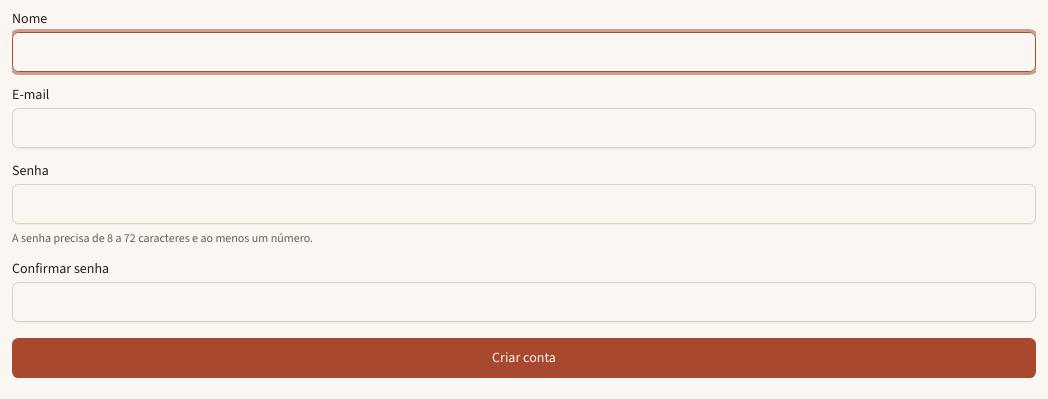
Test: RegisterForm › places server-side validation messages on the right fields
Type "Ana Leitora" into the field labelled "Nome" at (524, 52), box x1=12 y1=32 x2=1036 y2=72
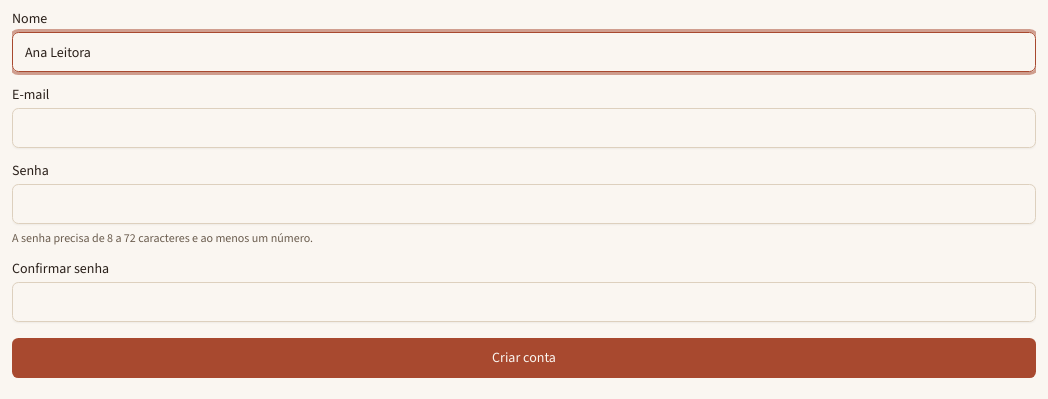
Type "ana@bookland.com" into the field labelled "E-mail" at (524, 128), box x1=12 y1=108 x2=1036 y2=148
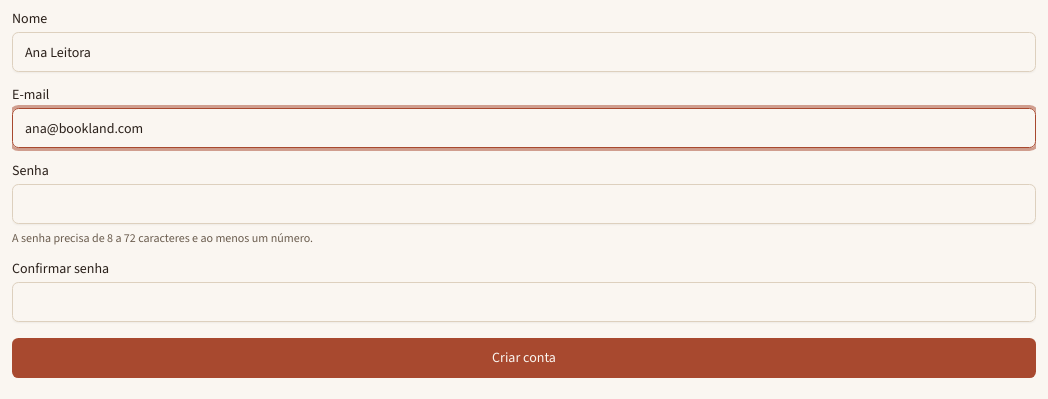
Type "senha1234" into the password field labelled "Senha" at (524, 204), box x1=12 y1=184 x2=1036 y2=224
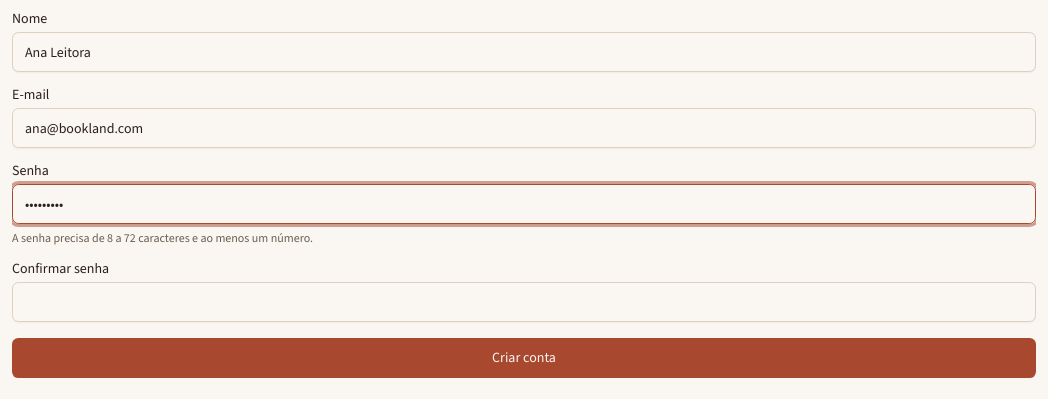
Type "senha1234" into the password field labelled "Confirmar senha" at (524, 302), box x1=12 y1=282 x2=1036 y2=322
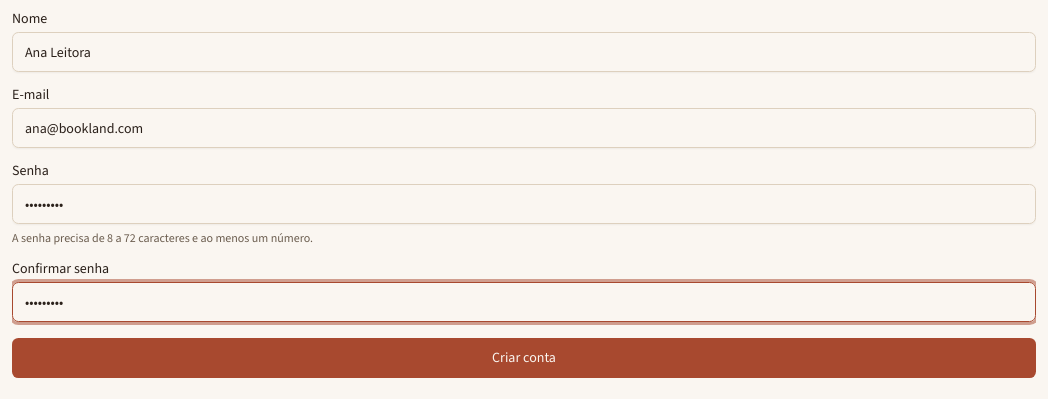
Click the button "Criar conta" at (524, 358), box x1=12 y1=338 x2=1036 y2=378
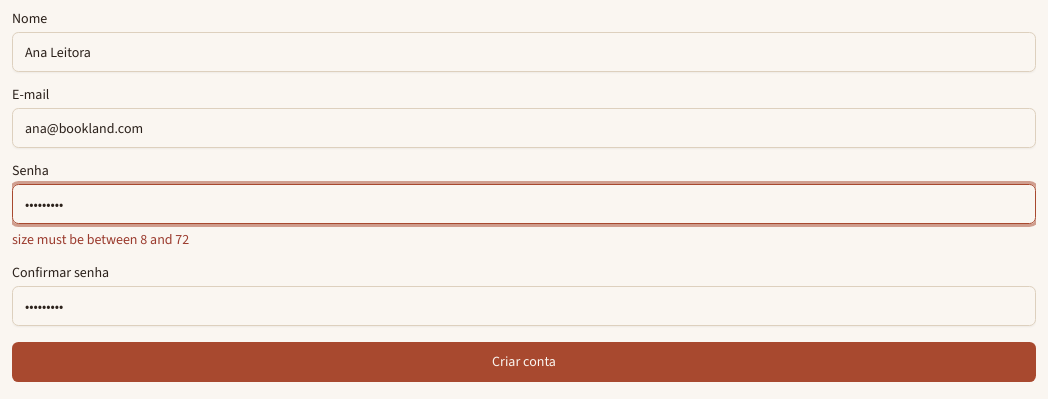
Check: the text "size must be between 8 and 72" is shown, box x1=12 y1=230 x2=189 y2=249
